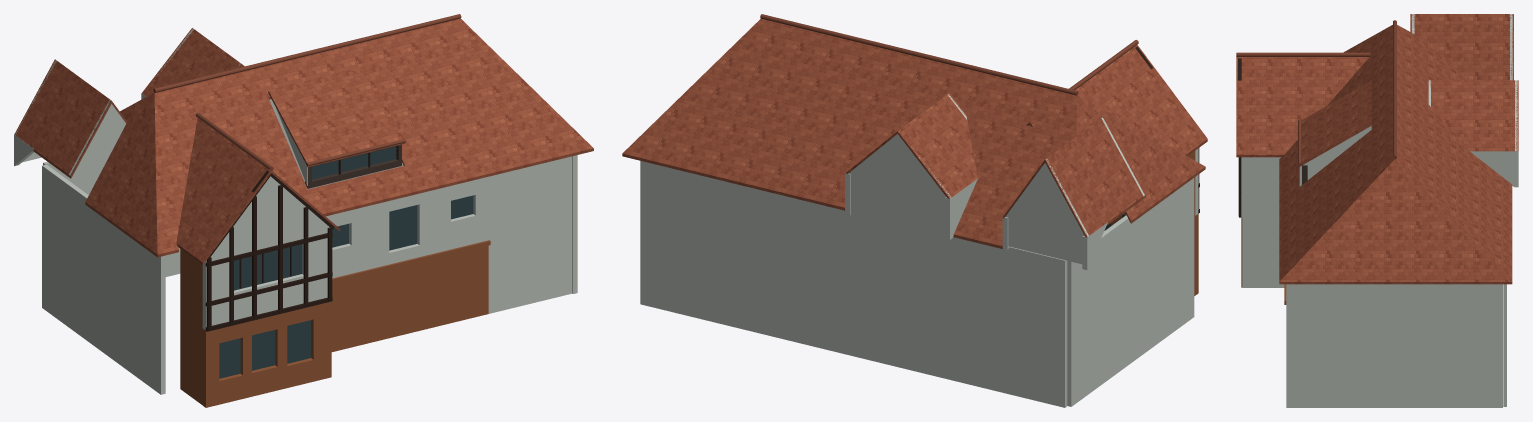
Rendered from changning-xinhua-231-rong-garden-roof.fbx.
The picture shows the model from 3 angles, left to right: view 1: azimuth 30°, elevation 25°; view 2: azimuth 150°, elevation 25°; view 3: azimuth 270°, elevation 25°; orthographic projection. The views are drawn at different scales.
Parts seen in each view (by area): view 1: 041_main_garden_slope, 031_simplified_western_eaves_return, 029_unresolved_eastern_garden_wall, 028_simplified_garden_base_under_recess, 021_set-back_garden_wall, 053_wide_shed_dormer, 005_pale_infill_in_projecting_gable, 001_projecting_gable_red_brick_base, 045_garden_gable_left, 043_left_hip, 049_northern_cross_gable_left, 027_plain_brick_west_return_at_garden_projection (+19 smaller); view 2: 032_neutral_rear_closure_without_invented_openings, 042_main_back_slope, 031_simplified_western_eaves_return, 038_north_central_gable_rear, 049_northern_cross_gable_left, 045_garden_gable_left, 034_northwest_gable_rear, 043_left_hip, 051_east_cross_gable_left, 054_long_main_ridge, 039_north_central_west_cheek, 035_northwest_west_cheek; view 3: 030_simplified_eastern_eaves_return, 044_right_hip, 042_main_back_slope, 041_main_garden_slope, 047_garden_gable_right, 052_east_cross_gable_right, 050_northern_cross_gable_right, 026_plain_return_at_garden_projection, 053_wide_shed_dormer, 040_north_central_east_cheek, 055_projecting_gable_ridge, 054_long_main_ridge (+3 smaller).
Part boxes in pixels (x1,y1,x2,y2): 041_main_garden_slope: (154,18,593,257); 031_simplified_western_eaves_return: (42,164,165,394); 029_unresolved_eastern_garden_wall: (488,156,572,313); 028_simplified_garden_base_under_recess: (331,245,488,351); 021_set-back_garden_wall: (326,176,489,278); 053_wide_shed_dormer: (268,66,404,167); 005_pale_infill_in_projecting_gable: (202,176,329,329); 001_projecting_gable_red_brick_base: (202,301,331,407); 045_garden_gable_left: (176,118,271,264); 043_left_hip: (85,92,157,257); 049_northern_cross_gable_left: (14,59,111,178); 027_plain_brick_west_return_at_garden_projection: (180,249,202,404); 032_neutral_rear_closure_without_invented_openings: (640,161,1067,407); 042_main_back_slope: (622,18,1077,248); 031_simplified_western_eaves_return: (1067,178,1194,406); 038_north_central_gable_rear: (849,134,951,237); 049_northern_cross_gable_left: (1045,116,1145,237); 045_garden_gable_left: (1075,44,1207,156); 034_northwest_gable_rear: (1005,159,1088,264); 043_left_hip: (1076,95,1205,223); 051_east_cross_gable_left: (897,93,977,198); 054_long_main_ridge: (760,14,1078,95); 039_north_central_west_cheek: (945,178,977,239); 035_northwest_west_cheek: (1082,222,1107,269); 030_simplified_eastern_eaves_return: (1286,284,1502,407); 044_right_hip: (1279,159,1512,284); 042_main_back_slope: (1395,25,1512,281); 041_main_garden_slope: (1279,25,1394,281); 047_garden_gable_right: (1236,57,1369,157); 052_east_cross_gable_right: (1427,80,1518,151); 050_northern_cross_gable_right: (1410,14,1513,80); 026_plain_return_at_garden_projection: (1242,157,1284,287); 053_wide_shed_dormer: (1299,80,1371,166); 040_north_central_east_cheek: (1470,151,1518,187); 055_projecting_gable_ridge: (1236,52,1370,56); 054_long_main_ridge: (1393,20,1396,159).
Bounding box in the file's own units: 2046 × 1081 × 1221.
Materials: 7 (1 with a texture image).
